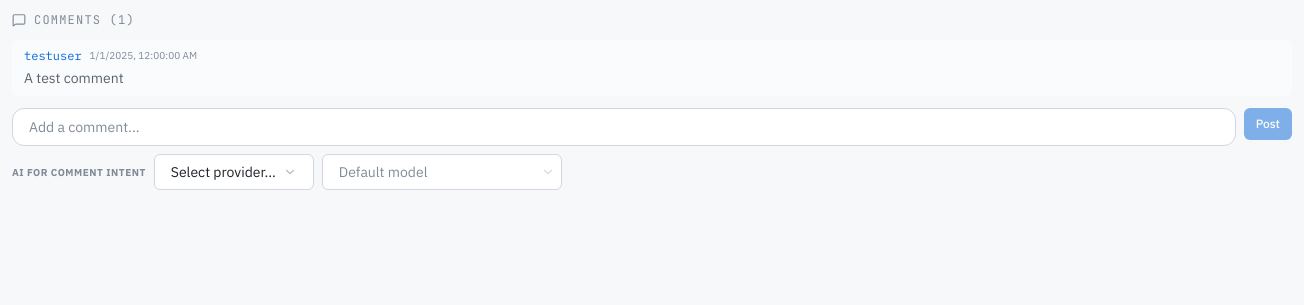
Scenario: CommentsSection – review suggestion errors › shows an error when the comment-intent request fails
The width and height of the screenshot is (1304, 305).
Type "already fixed" into the text box with placeholder "Add a comment..." at (624, 127), box [12,108,1236,146]
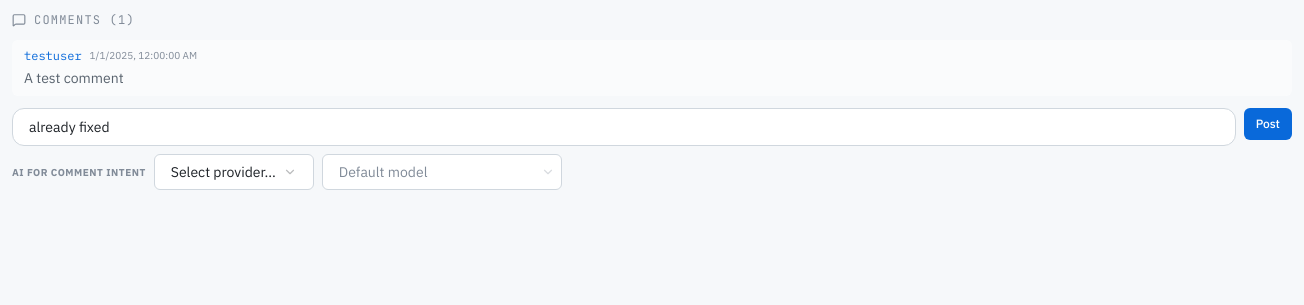
Click the button "Post" at (1268, 124), box [1244,108,1292,140]
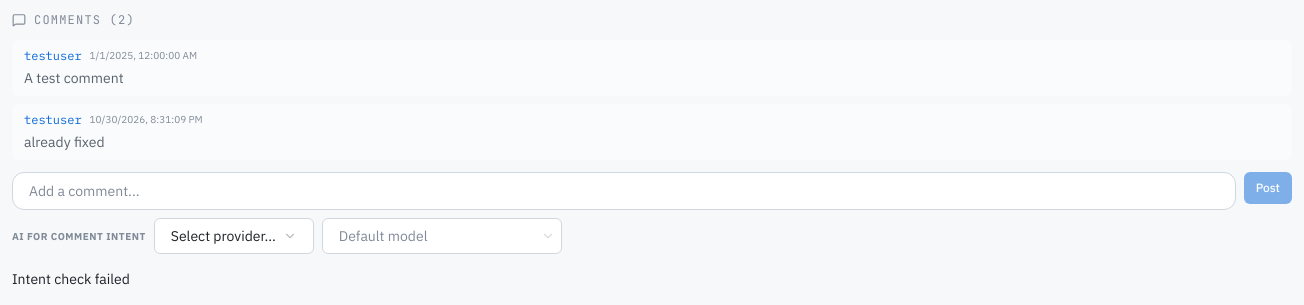
Result: the message reads "Intent check failed" at [12,270,130,288]
